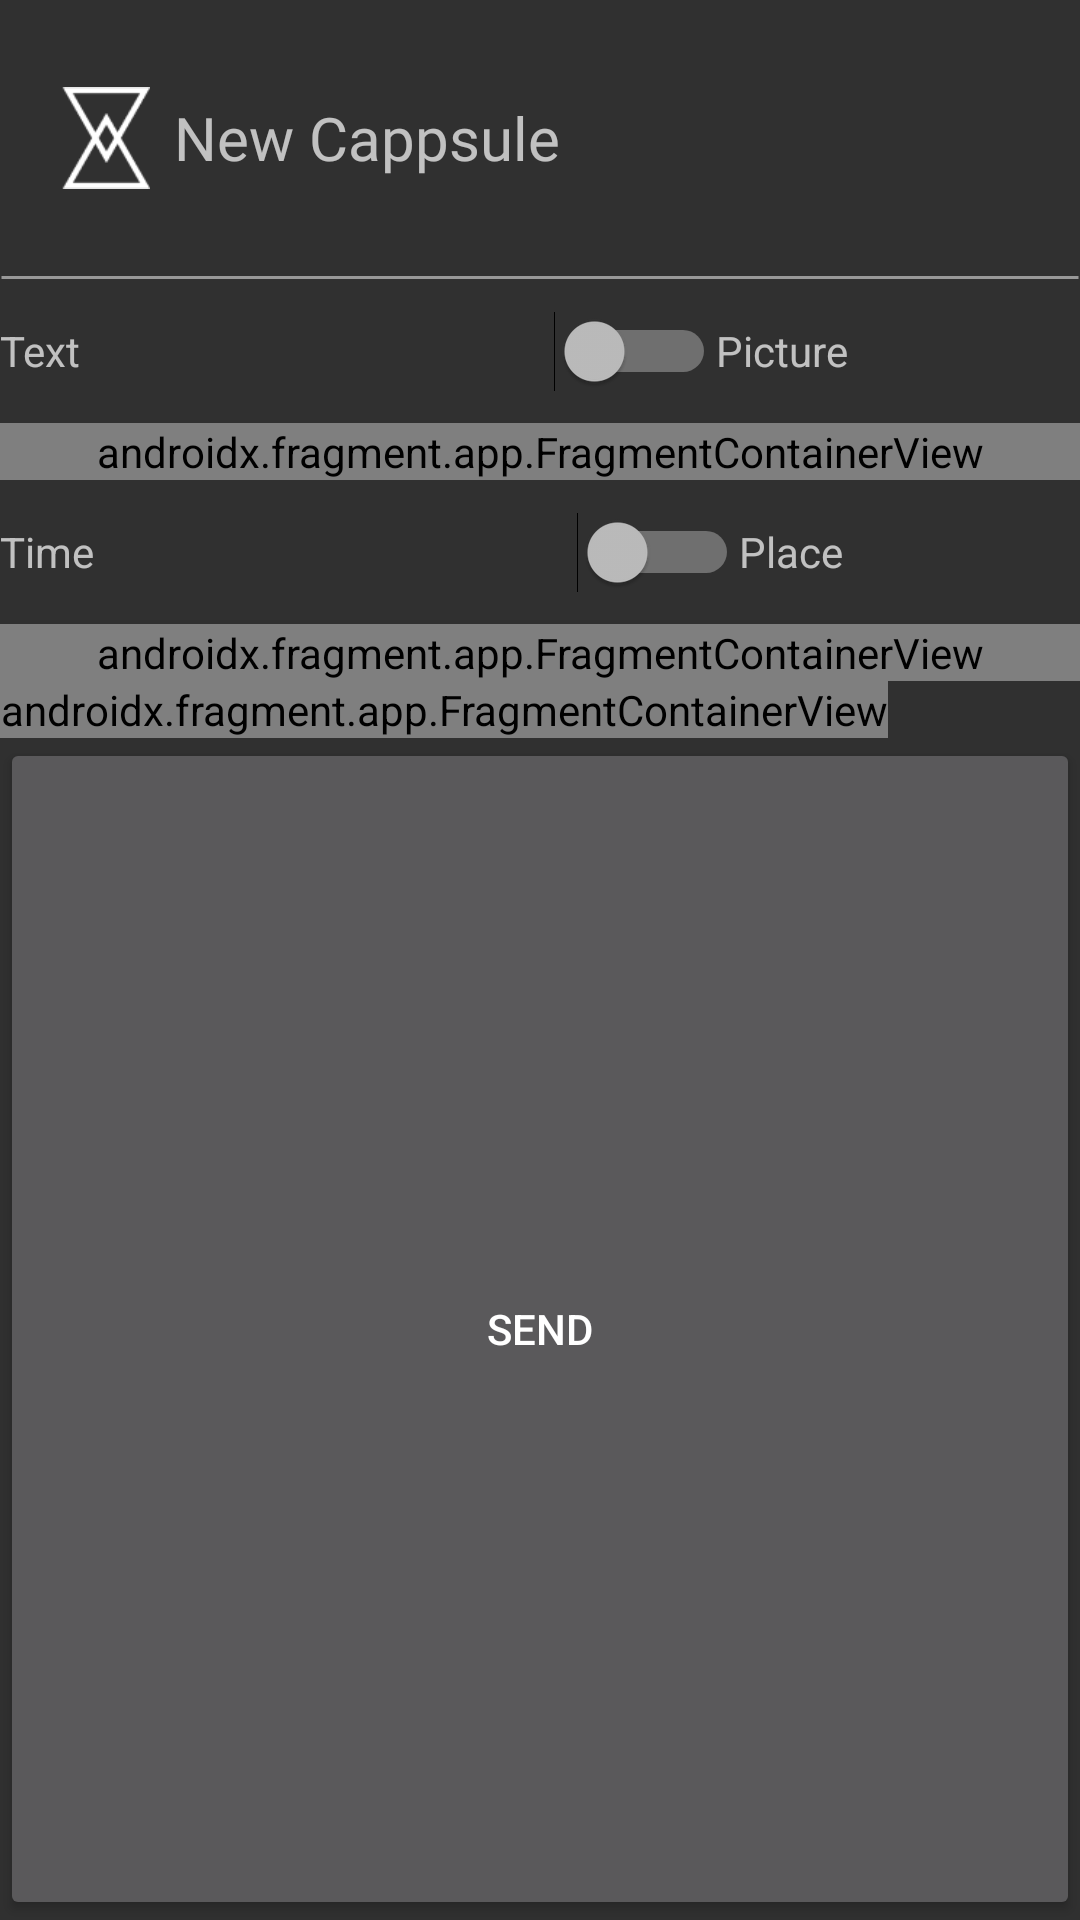

Icons on this 1080*1920 Android screen, each with the point to tap as (x=x, y=y):
hourglass: (x=106, y=138)
